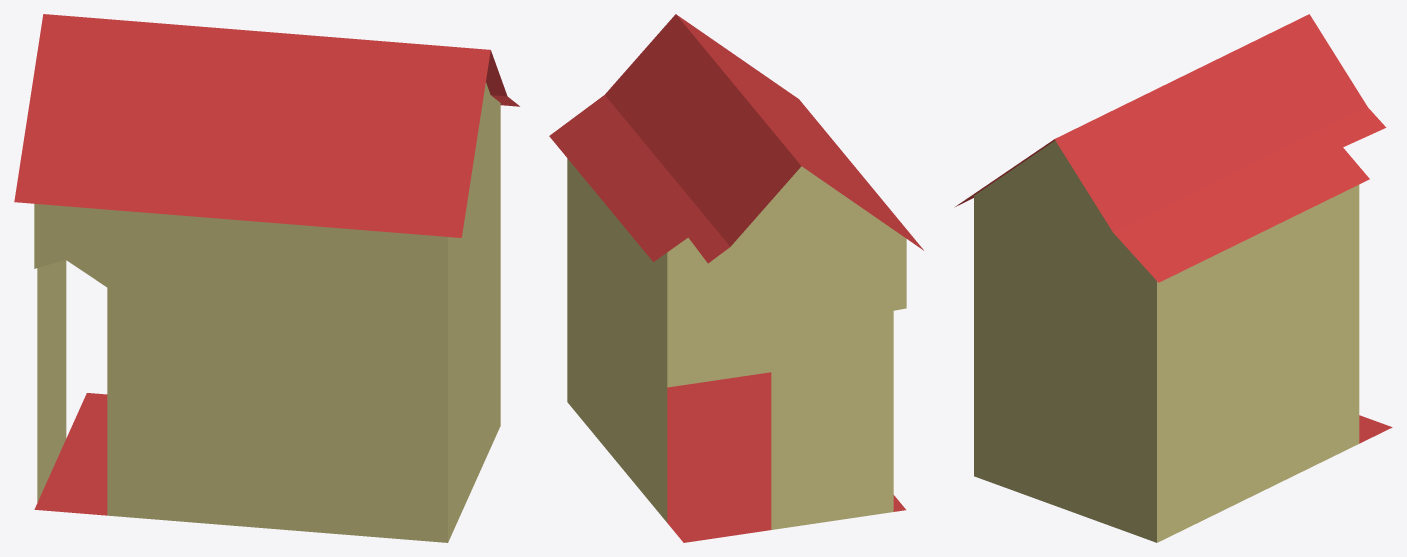
3 views of the same model, side by side, from view 1: azimuth 30°, elevation 25°; view 2: azimuth 150°, elevation 25°; view 3: azimuth 270°, elevation 25° (orthographic). The views are drawn at different scales.
Size of the model in its own units: 15.99 by 14.87 by 13.98.
